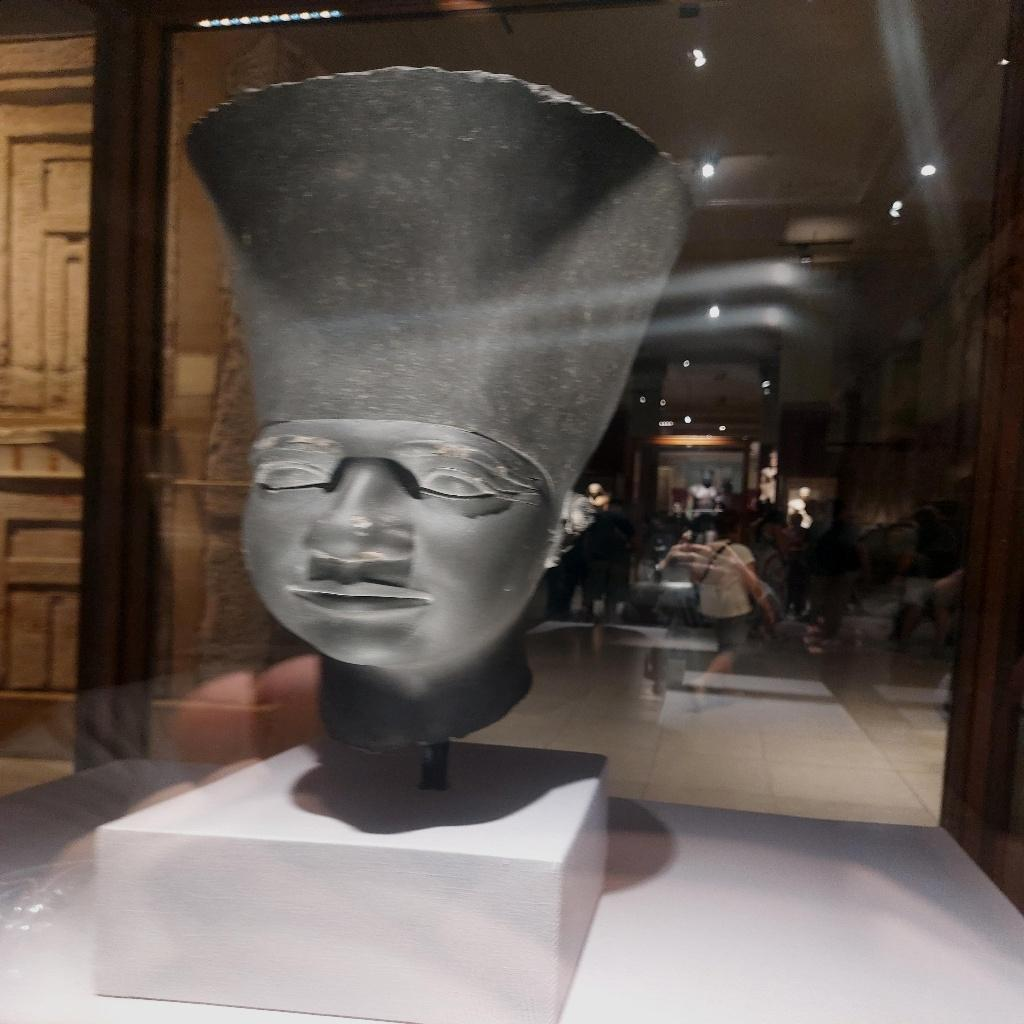Head of Userkaf: (174, 62, 694, 747)
